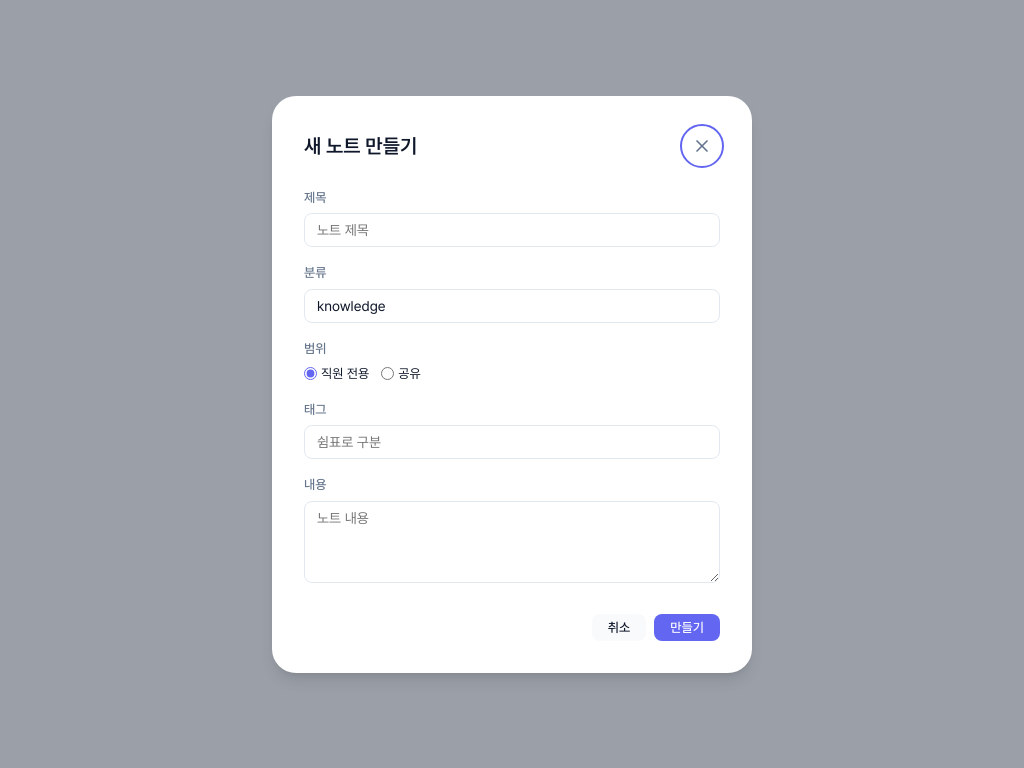
it: CreateNoteDialog › shows error when title is empty on submit
The image size is (1024, 768).
Click the button "만들기": {"x": 687, "y": 627} x1=654 y1=614 x2=720 y2=640
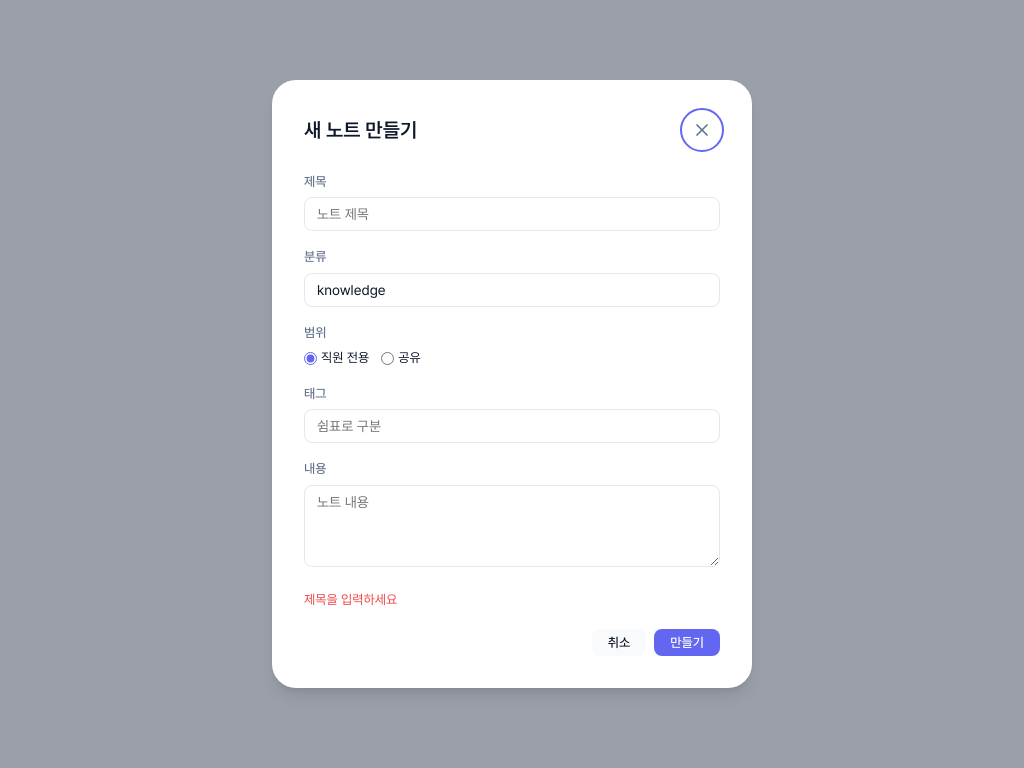
Expected: the text "제목을 입력하세요" is shown, x1=304 y1=592 x2=397 y2=607
